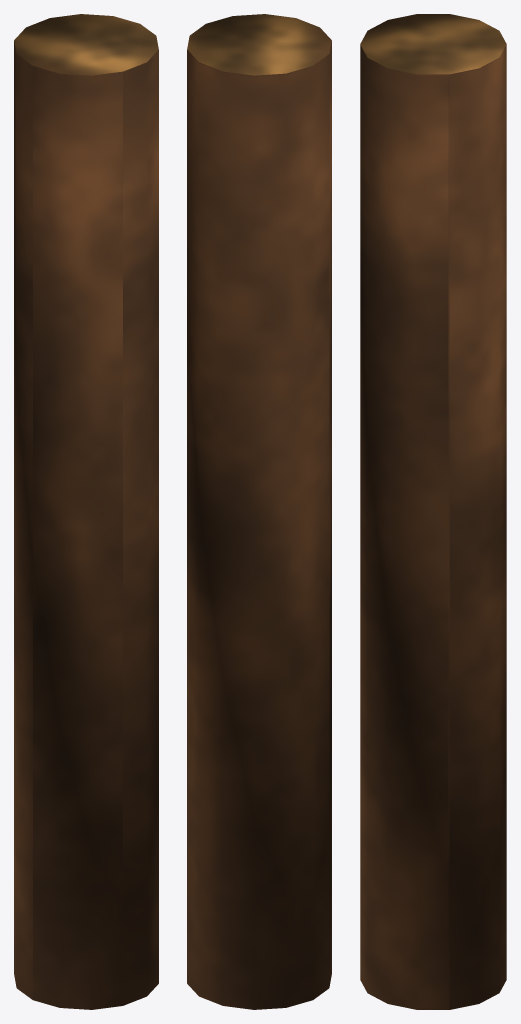
File: log_pole.glb
The picture shows the model from 3 angles, left to right: view 1: azimuth 30°, elevation 25°; view 2: azimuth 150°, elevation 25°; view 3: azimuth 270°, elevation 25°; orthographic projection.
Parts seen in each view (by area): view 1: log_pole; view 2: log_pole; view 3: log_pole.
Boxes of the visible parts, x1=… form: log_pole: x1=14, y1=14, x2=158, y2=1009; log_pole: x1=187, y1=14, x2=331, y2=1009; log_pole: x1=360, y1=14, x2=506, y2=1009.
Bounding box in the file's own units: 0.2145 × 1.55 × 0.22.
2 materials, 2 textured.
